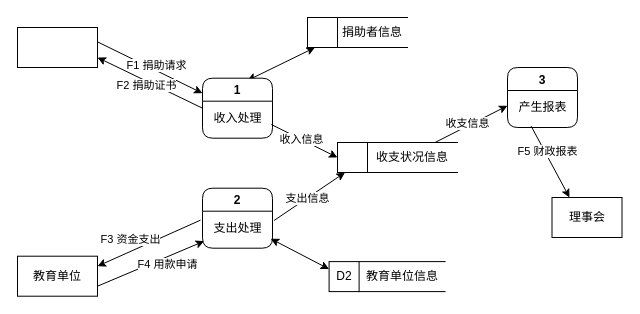
Image size: 640x314. Some labels were removed from this diagram. The centre of each missing label's shape, as x and y in pixels:
"D1" belongs at pixel 322 32.
"D3" belongs at pixel 352 157.
"捐助者" belongs at pixel 57 47.
